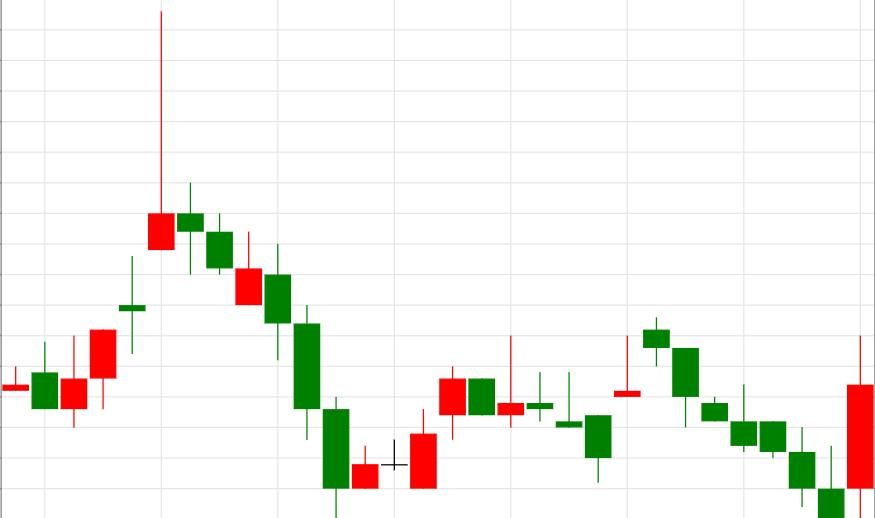shooting_star_fall: (60, 11, 175, 429)
